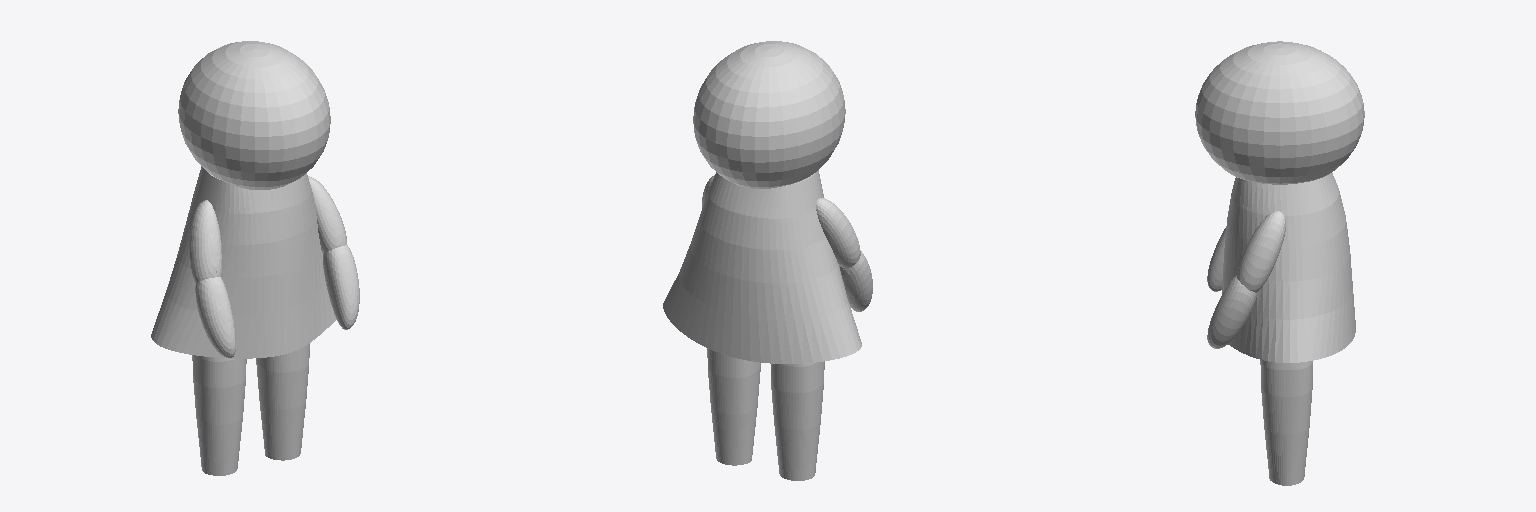
File: humanresize.obj
3 views of the same model, side by side, from view 1: azimuth 30°, elevation 25°; view 2: azimuth 150°, elevation 25°; view 3: azimuth 270°, elevation 25° (orthographic).
Parts seen in each view (by area): view 1: Body, Head, Leg_1, Leg_2, Left_Arm, Right_Arm; view 2: Body, Head, Leg_1, Leg_2, Left_Arm; view 3: Head, Body, Leg_2, Right_Arm, Left_Arm.
Boxes of the visible parts, box(x1,y1,x2,y2) form: Body: box(151, 166, 336, 358); Head: box(178, 41, 330, 189); Leg_1: box(192, 355, 246, 475); Leg_2: box(256, 343, 309, 460); Left_Arm: box(189, 200, 235, 357); Right_Arm: box(308, 176, 359, 329); Body: box(663, 170, 861, 363); Head: box(693, 41, 845, 188); Leg_1: box(770, 361, 824, 480); Leg_2: box(707, 348, 760, 465); Left_Arm: box(816, 198, 872, 311); Head: box(1195, 41, 1364, 184); Body: box(1222, 173, 1355, 362); Leg_2: box(1260, 360, 1312, 485); Right_Arm: box(1207, 211, 1285, 348); Left_Arm: box(1207, 228, 1225, 291).
Size of the model in its own units: 0.7684 by 1.6 by 0.5956.